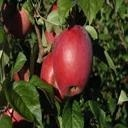apple: (51, 24, 94, 98)
